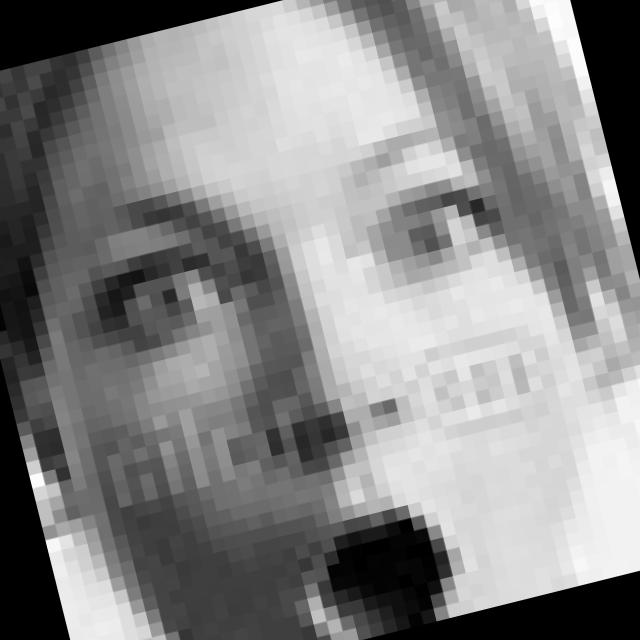surprise: (61, 103, 588, 640)
